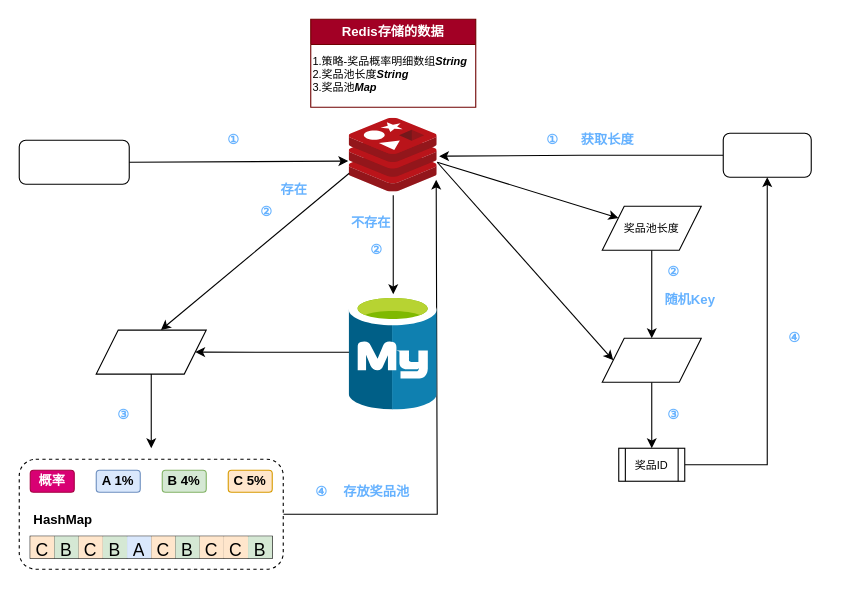
Some shapes in this 842 by 589 pixel diagram are drawn without their labels. The centre of each missing label's shape, as x and y in pixels:
奖品池Map: the point at 651,359
抽奖: the point at 766,154
策略-奖品明细: the point at 150,351
策略概率装配: the point at 73,161
